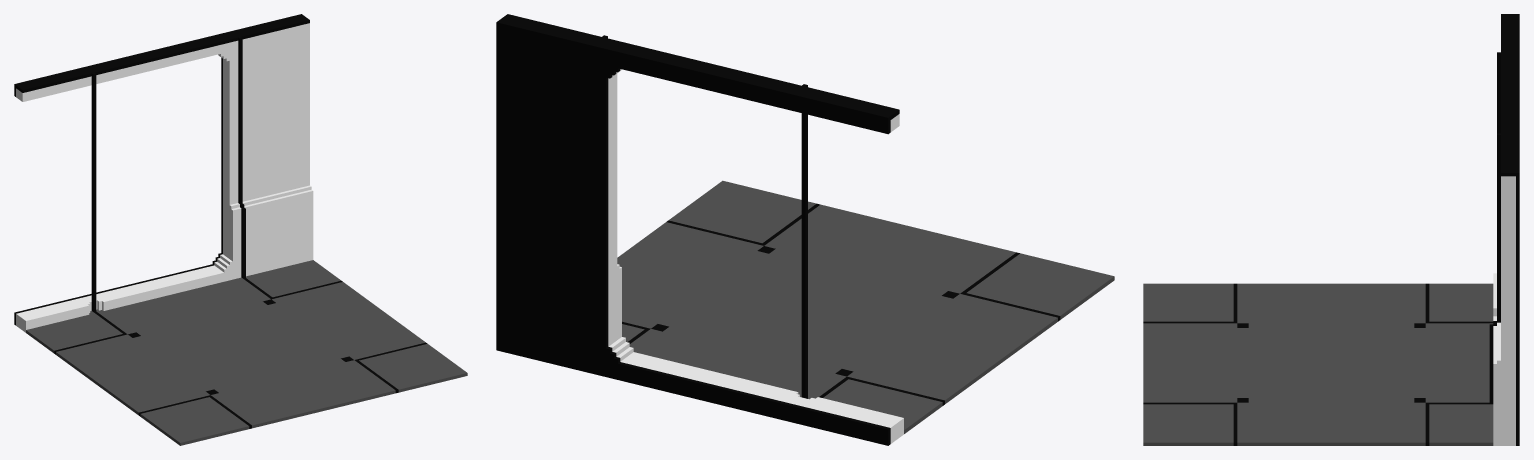
File: Wall Window End.obj
The picture shows the model from 3 angles, left to right: view 1: azimuth 30°, elevation 25°; view 2: azimuth 150°, elevation 25°; view 3: azimuth 270°, elevation 25°; orthographic projection. The views are drawn at different scales.
Size of the model in its own units: 10 by 8 by 10.
